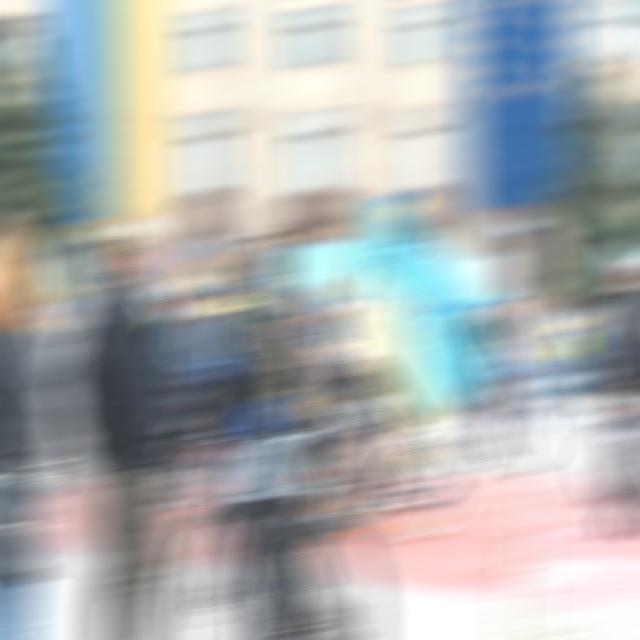Without Helmet: (101, 212, 181, 294), (232, 220, 298, 302)
